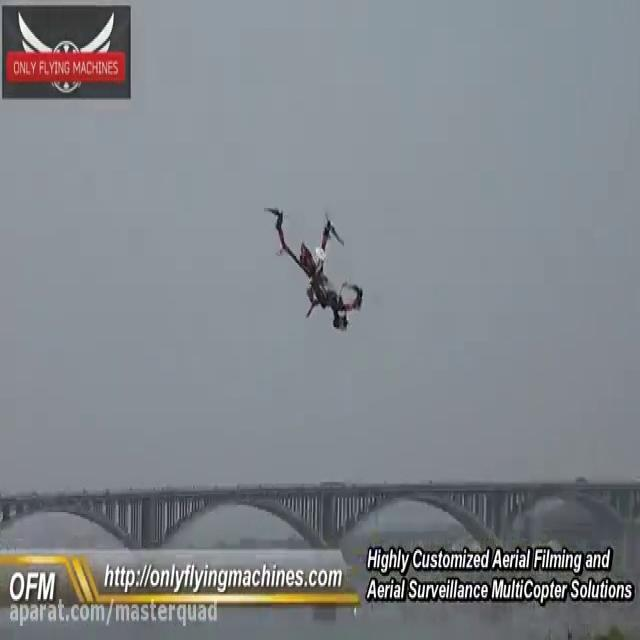drone: (261, 197, 366, 336)
